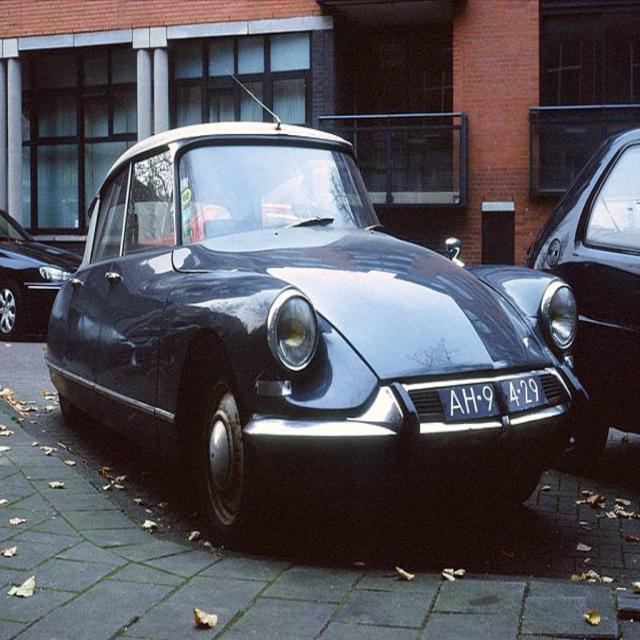car: (48, 113, 574, 557)
